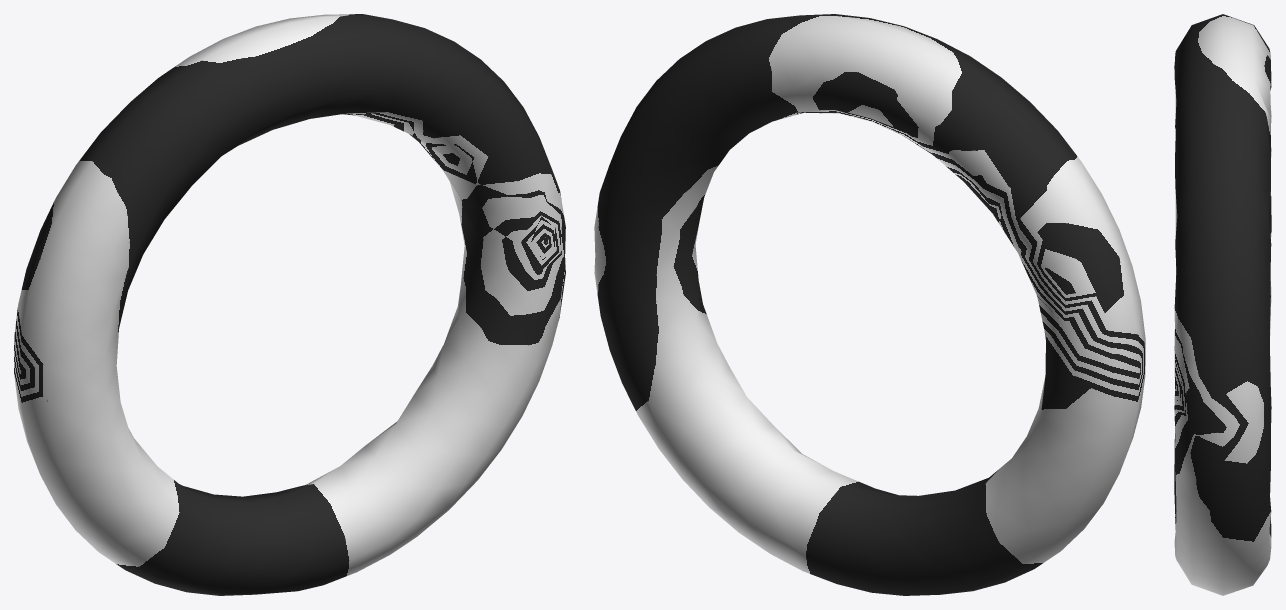
The model's file is torus_R200mm_r40mm_cgal_conformal_result.glb.
3 views of the same model, side by side, from view 1: azimuth 30°, elevation 25°; view 2: azimuth 150°, elevation 25°; view 3: azimuth 270°, elevation 25° (orthographic). The views are drawn at different scales.
Bounding box in the file's own units: 480 × 480 × 80.
1 material, 1 textured.
